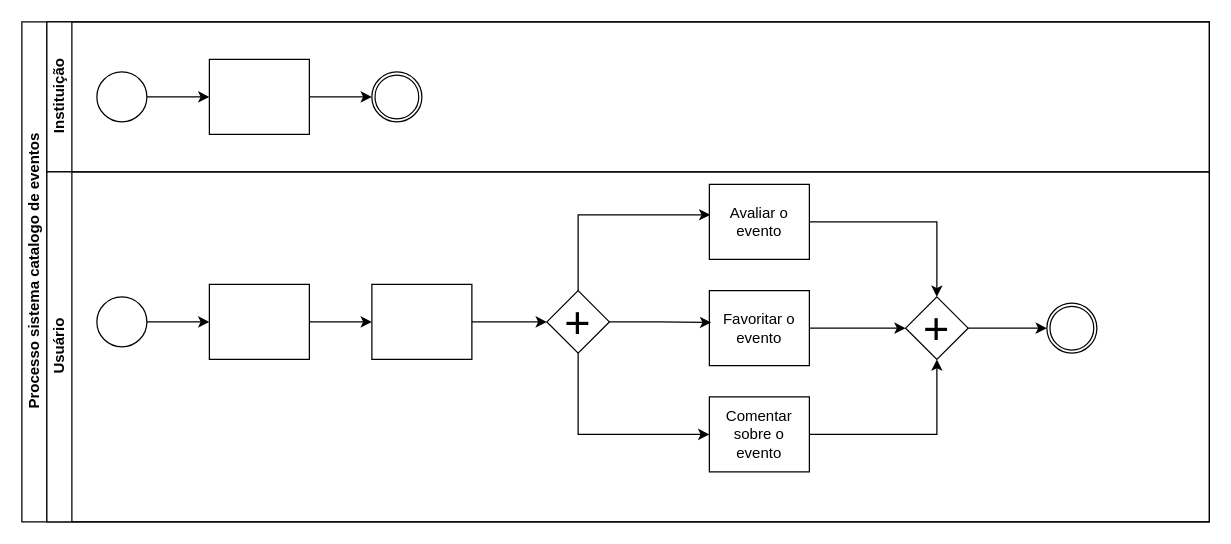
Some shapes in this 1231 by 544 pixel diagram are drawn without their labels. Here are the shapes that lost their labels. From the top down, the box of each, then its label:
(208, 58, 309, 134): Cadastrar evento
(208, 283, 309, 359): Buscar evento
(371, 283, 472, 359): Marcar presença do evento
